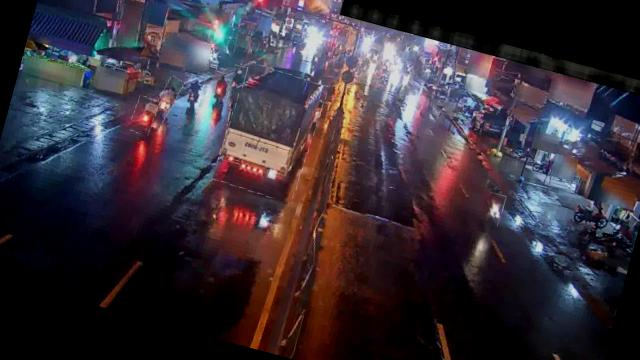Bike: (148, 74, 182, 132), (571, 200, 613, 233), (128, 96, 159, 137), (482, 192, 506, 227), (208, 70, 232, 103), (182, 74, 205, 107), (227, 64, 248, 94)
Truck: (212, 62, 327, 204)
